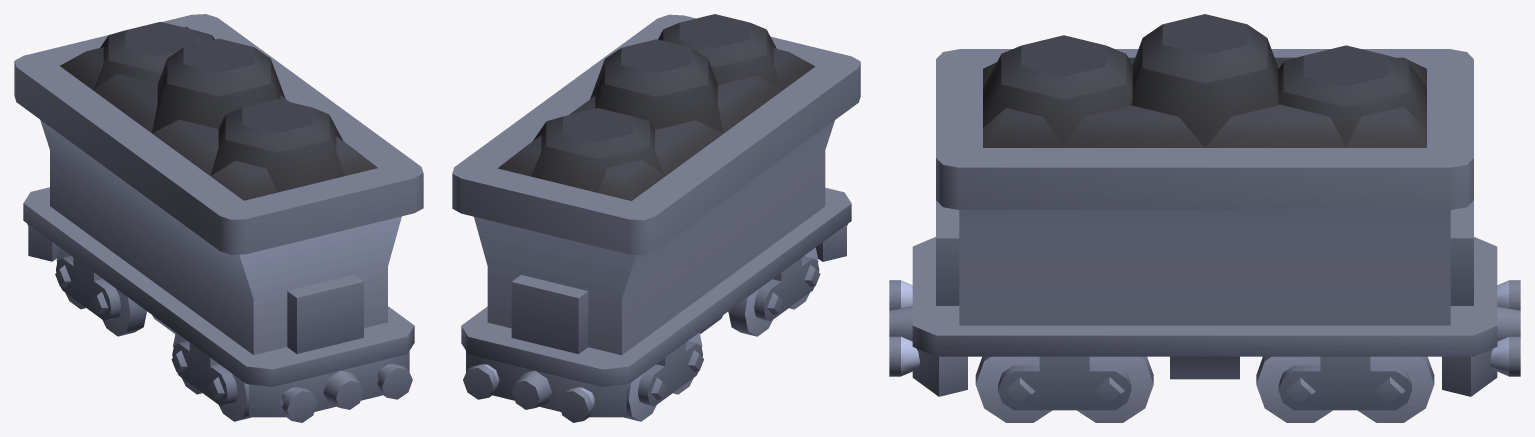
File: wagon_coal.glb
3 views of the same model, side by side, from view 1: azimuth 30°, elevation 25°; view 2: azimuth 150°, elevation 25°; view 3: azimuth 270°, elevation 25° (orthographic). The views are drawn at different scales.
Visible parts, largest first — view 1: train-carriage-coal, cargo, wheels-back, wheels-front; view 2: train-carriage-coal, cargo, wheels-front, wheels-back; view 3: train-carriage-coal, cargo, wheels-front, wheels-back.
Part boxes in pixels (x1,y1,x2,y2): train-carriage-coal: [14, 14, 423, 422]; cargo: [60, 22, 377, 200]; wheels-back: [55, 247, 146, 336]; wheels-front: [171, 332, 250, 421]; train-carriage-coal: [452, 14, 860, 422]; cargo: [497, 14, 815, 200]; wheels-front: [728, 247, 820, 336]; wheels-back: [624, 332, 703, 421]; train-carriage-coal: [889, 49, 1520, 396]; cargo: [983, 14, 1426, 147]; wheels-front: [975, 356, 1153, 422]; wheels-back: [1256, 356, 1434, 422].
Size of the model in its own units: 1.2 by 1.65 by 2.7.
Materials: 1 (1 with a texture image).
